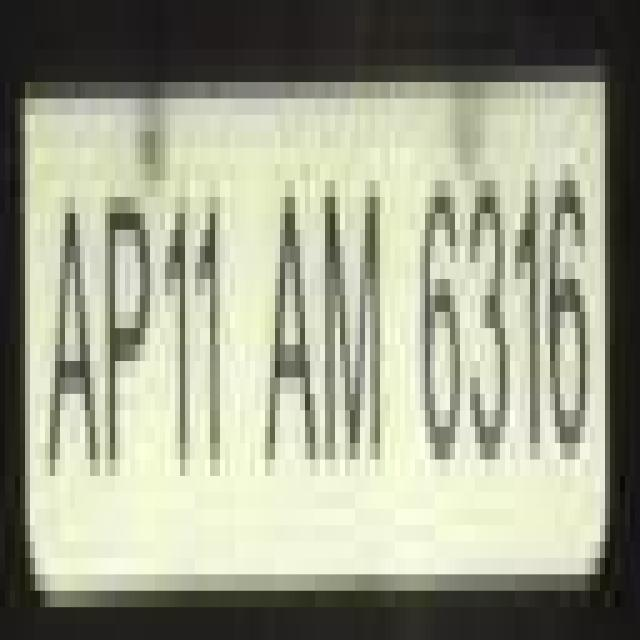license_plate: (10, 49, 600, 607)
